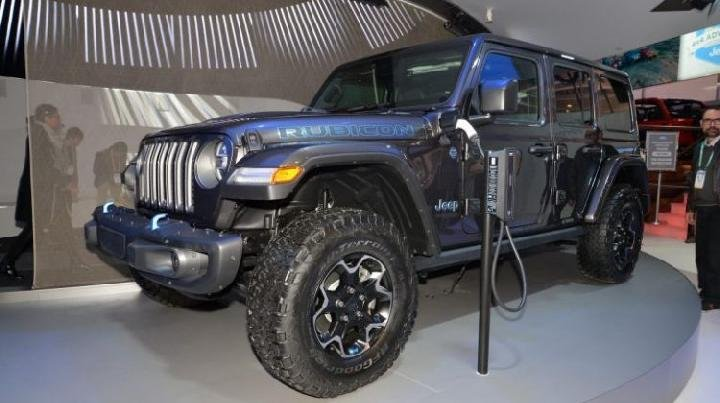mobil: (109, 23, 664, 353)
